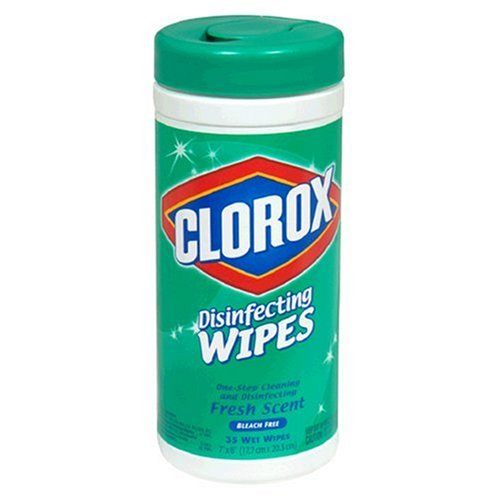Wipes: (146, 10, 350, 488)
